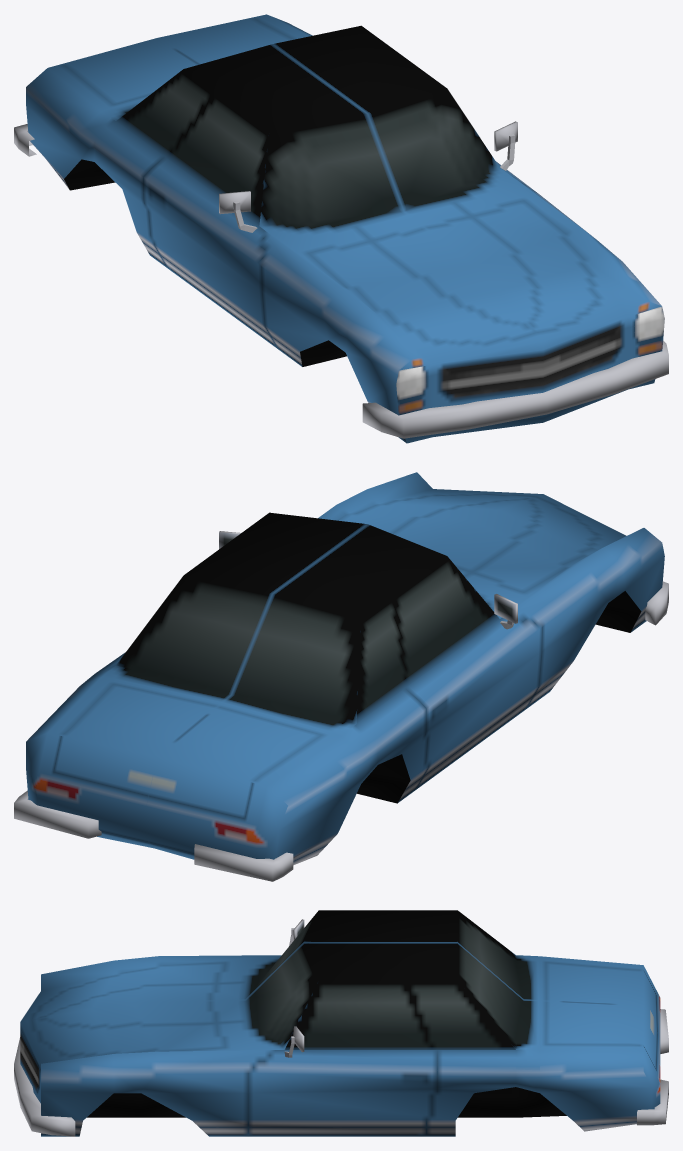
Rendered from mb_pagoda.obj.
3 renders of one model, top to bottom at view 1: azimuth 30°, elevation 25°; view 2: azimuth 150°, elevation 25°; view 3: azimuth 270°, elevation 25°, orthographic. The views are drawn at different scales.
Visible parts, largest first — view 1: mb_pagoda; view 2: mb_pagoda; view 3: mb_pagoda.
Boxes of the visible parts, box(x1,y1,x2,y2) form: mb_pagoda: box(14, 14, 668, 443); mb_pagoda: box(14, 472, 668, 881); mb_pagoda: box(14, 910, 668, 1136).
Size of the model in its own units: 1.75 by 1.01 by 4.13.
Materials: 1 (1 with a texture image).
